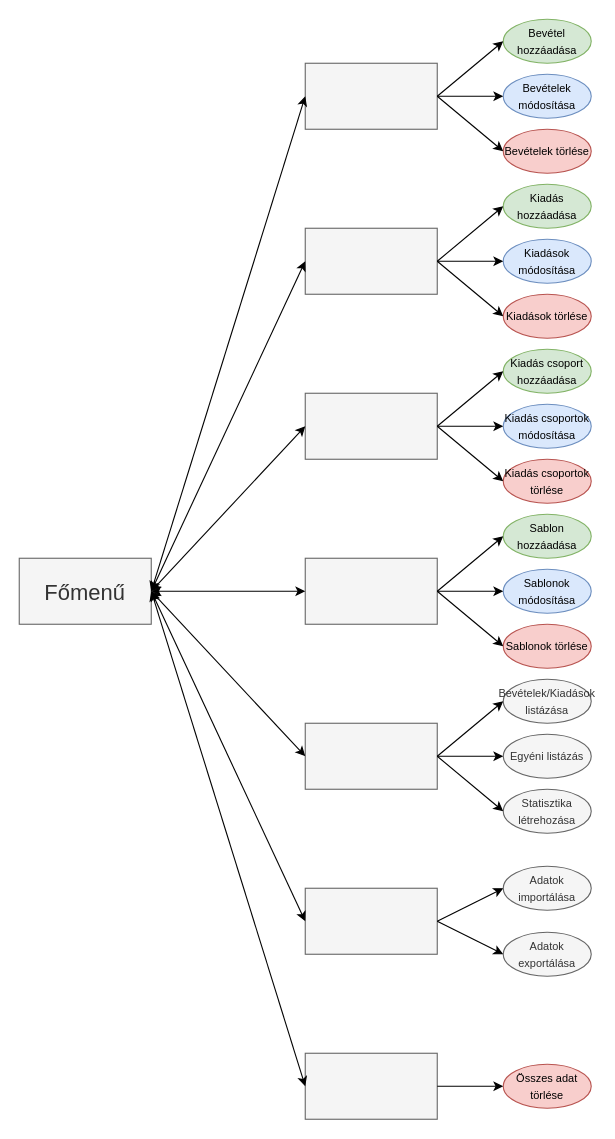
The diagram is 615 pixels wide and 1139 high, and some of its shapes have lost their labels. Here are the shapes that lost their labels. From the top down, the box of each, then its label:
(304, 62, 437, 129): Bevételek szerkesztése
(304, 227, 437, 294): Kiadások szerkesztése
(304, 392, 437, 459): Kiadás csoportok szerkesztése
(304, 557, 437, 624): Sablonok szerkesztése
(304, 722, 437, 789): Statisztika
(304, 887, 437, 954): Adatok mozgatása
(304, 1052, 437, 1119): Adatok törlése
